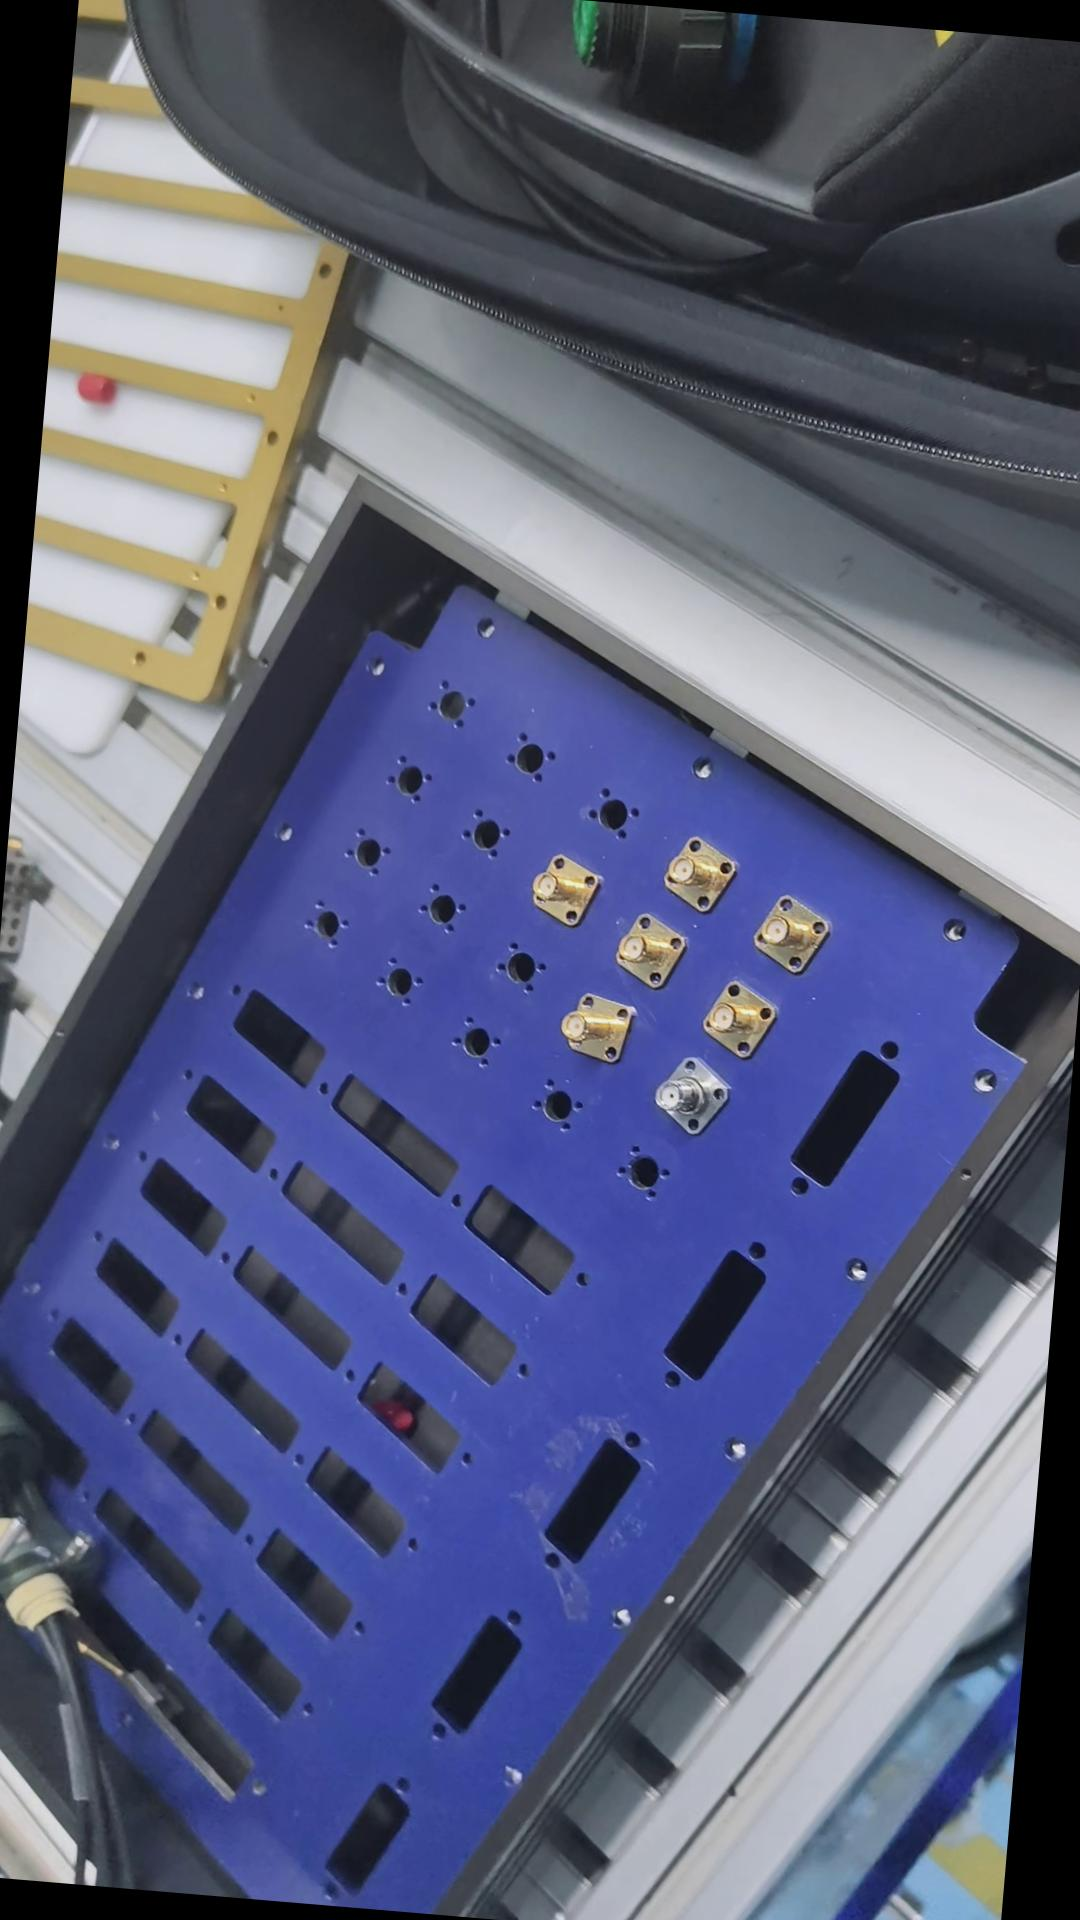SMA: (645, 1048, 733, 1135), (521, 848, 608, 934), (607, 907, 695, 992), (695, 977, 781, 1058), (745, 895, 832, 975), (550, 985, 632, 1067), (655, 829, 736, 913)
